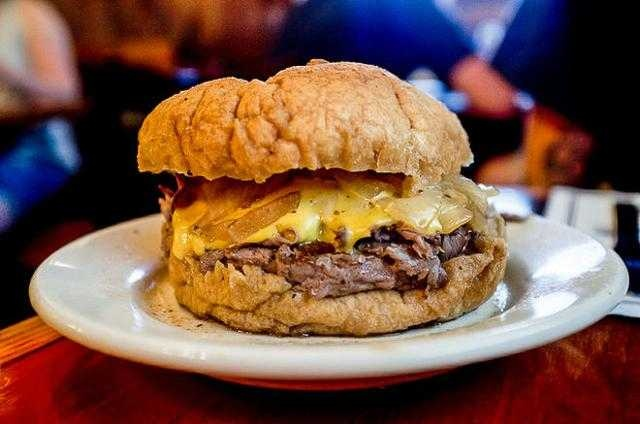hamburger: (157, 56, 517, 339)
